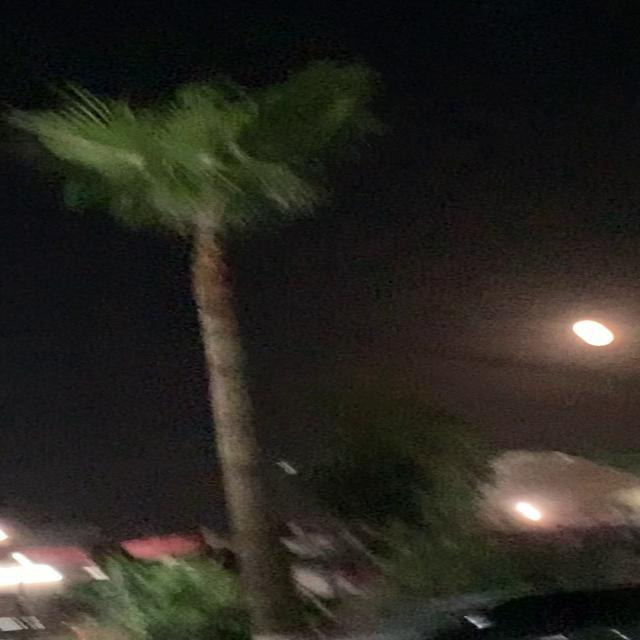moon: (565, 319, 623, 347)
